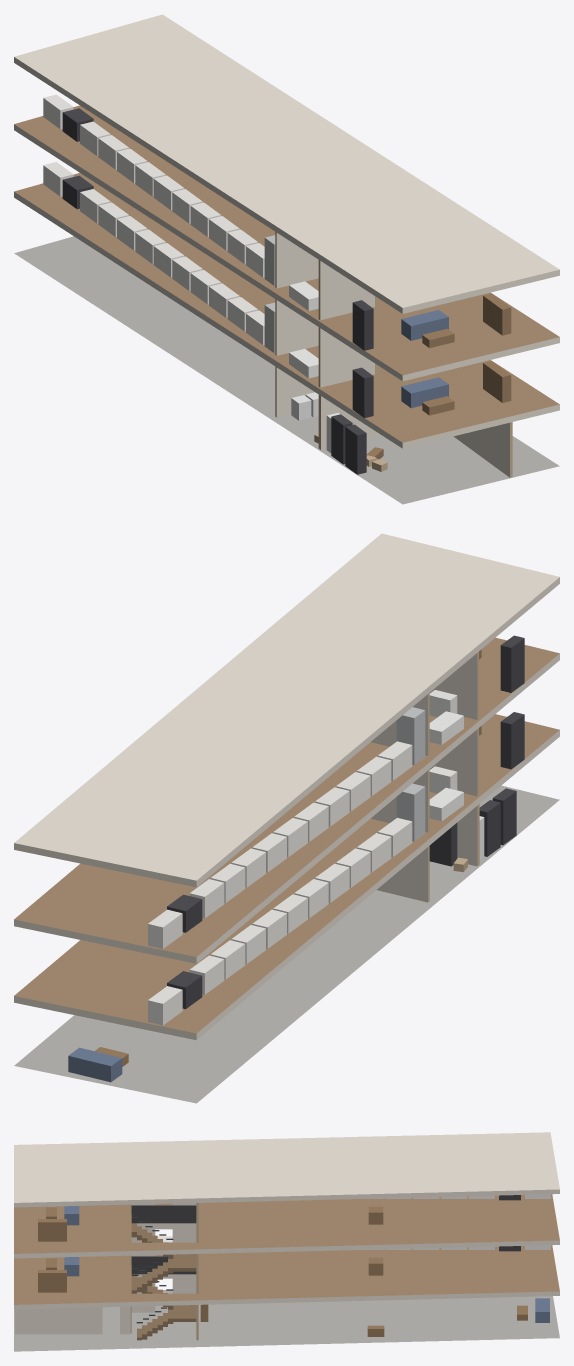
The model's file is interior.glb.
3 views of the same model, one above another, from view 1: azimuth 30°, elevation 25°; view 2: azimuth 150°, elevation 25°; view 3: azimuth 270°, elevation 25° (orthographic). The views are drawn at different scales.
Parts seen in each view (by area): view 1: slabs, coarse-s1, coarse-s2, partitions, coarse-s0; view 2: slabs, coarse-s1, coarse-s2, partitions, coarse-s0; view 3: slabs, stair, partitions, coarse-s1, coarse-s2, coarse-s0.
Part boxes in pixels (bbox=[...]): slabs: bbox=[14, 14, 559, 504]; coarse-s1: bbox=[43, 162, 511, 418]; coarse-s2: bbox=[43, 94, 511, 350]; partitions: bbox=[275, 232, 512, 477]; coarse-s0: bbox=[291, 392, 387, 474]; slabs: bbox=[14, 533, 559, 1103]; coarse-s1: bbox=[148, 712, 524, 1025]; coarse-s2: bbox=[148, 635, 524, 948]; partitions: bbox=[370, 652, 479, 902]; coarse-s0: bbox=[68, 788, 516, 1082]; slabs: bbox=[14, 1132, 559, 1351]; stair: bbox=[131, 1205, 196, 1340]; partitions: bbox=[15, 1203, 198, 1340]; coarse-s1: bbox=[38, 1236, 550, 1292]; coarse-s2: bbox=[38, 1194, 550, 1241]; coarse-s0: bbox=[200, 1298, 549, 1336].
Bounding box in the file's own units: 8.69 × 8.55 × 28.39.
